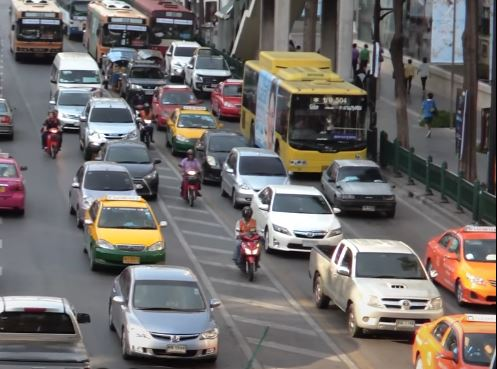Bus: (240, 51, 368, 176), (84, 1, 149, 65), (132, 1, 193, 55), (8, 1, 64, 59), (49, 51, 102, 97)
Car: (307, 235, 445, 340), (107, 262, 221, 364), (1, 294, 94, 369), (249, 184, 342, 255), (83, 194, 167, 268), (424, 225, 497, 306), (410, 313, 497, 369), (319, 160, 397, 219), (66, 160, 137, 222), (220, 146, 291, 205), (98, 141, 158, 197), (81, 97, 139, 154), (166, 106, 217, 154), (197, 130, 246, 179), (121, 58, 167, 104), (185, 52, 232, 96), (151, 84, 196, 129), (51, 87, 94, 130), (209, 79, 243, 122), (167, 40, 201, 78)
Motorcycle: (233, 205, 265, 282), (177, 149, 206, 206), (40, 109, 65, 159)
TukTuk: (102, 48, 139, 89)
